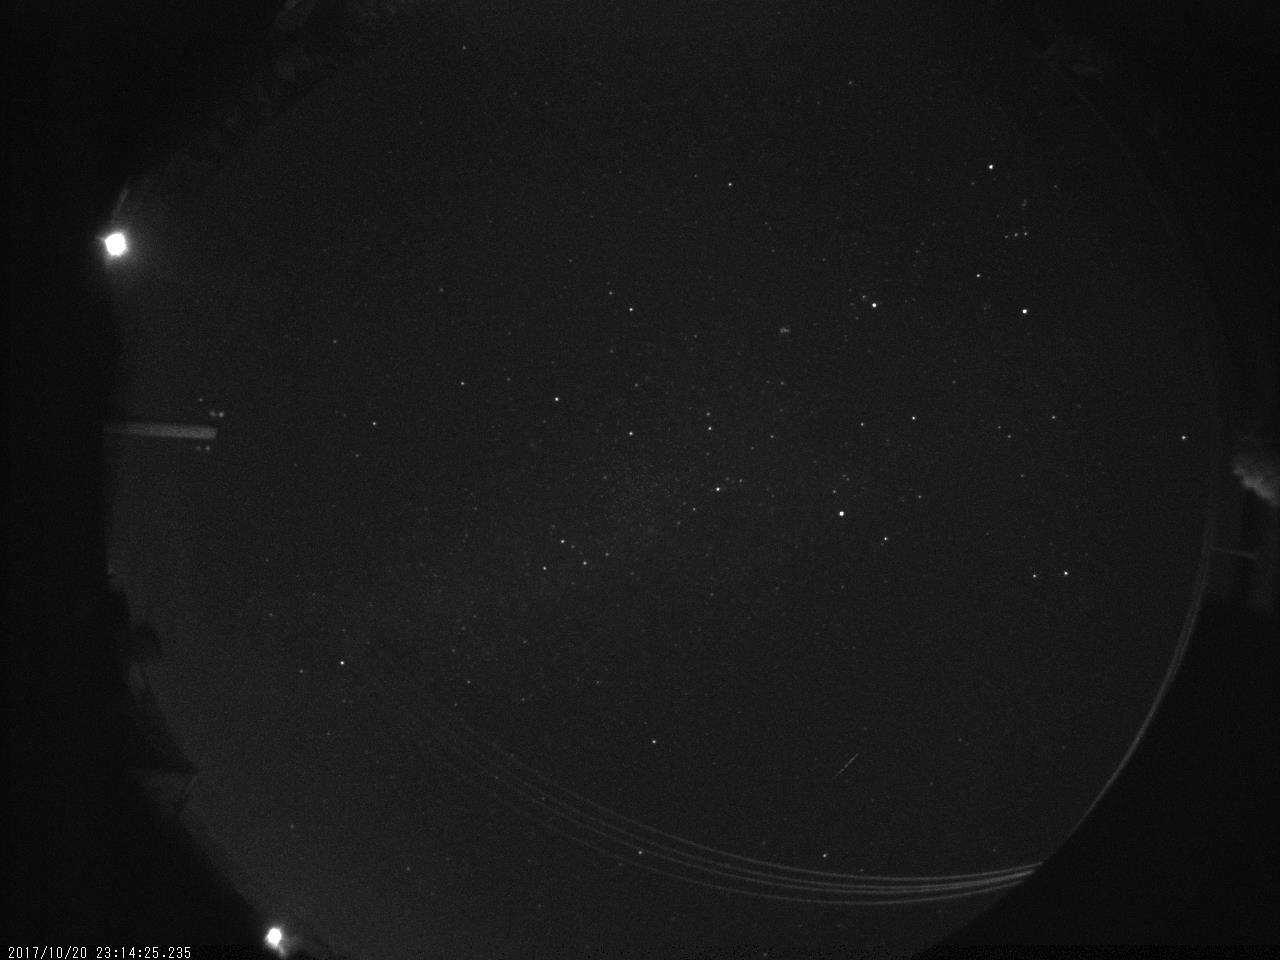meteor: (812, 743, 879, 787)
